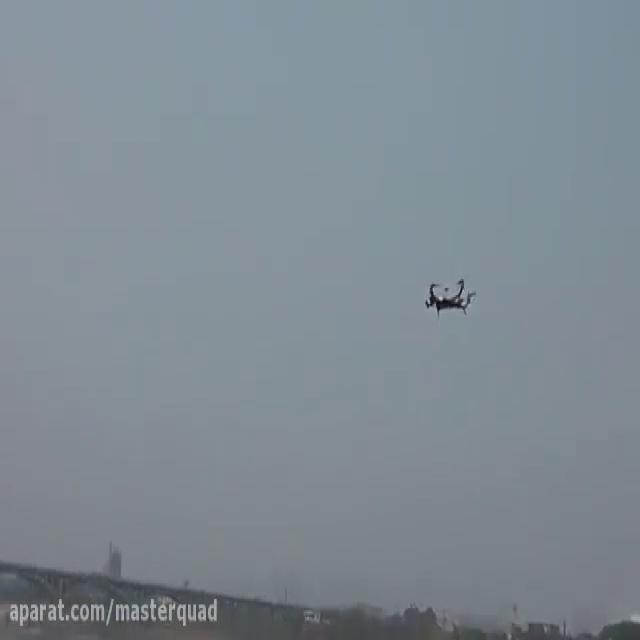drone: (418, 270, 480, 324)
